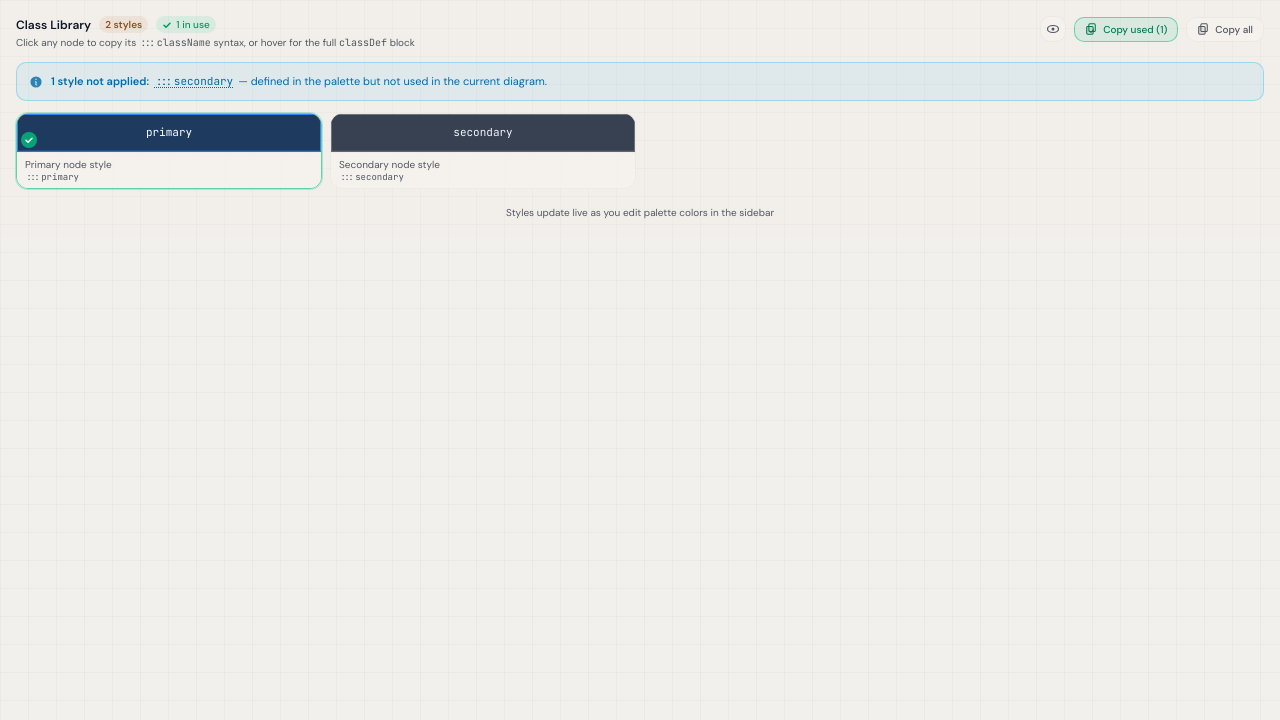
Test: ClassBrowser — indicator button checkmark flash after copy › checkmark SVG appears inside the indicator button immediately after click
Step 1. Click the button with aria-label "Copy :::secondary" → (194, 82), box [152,73,235,90]
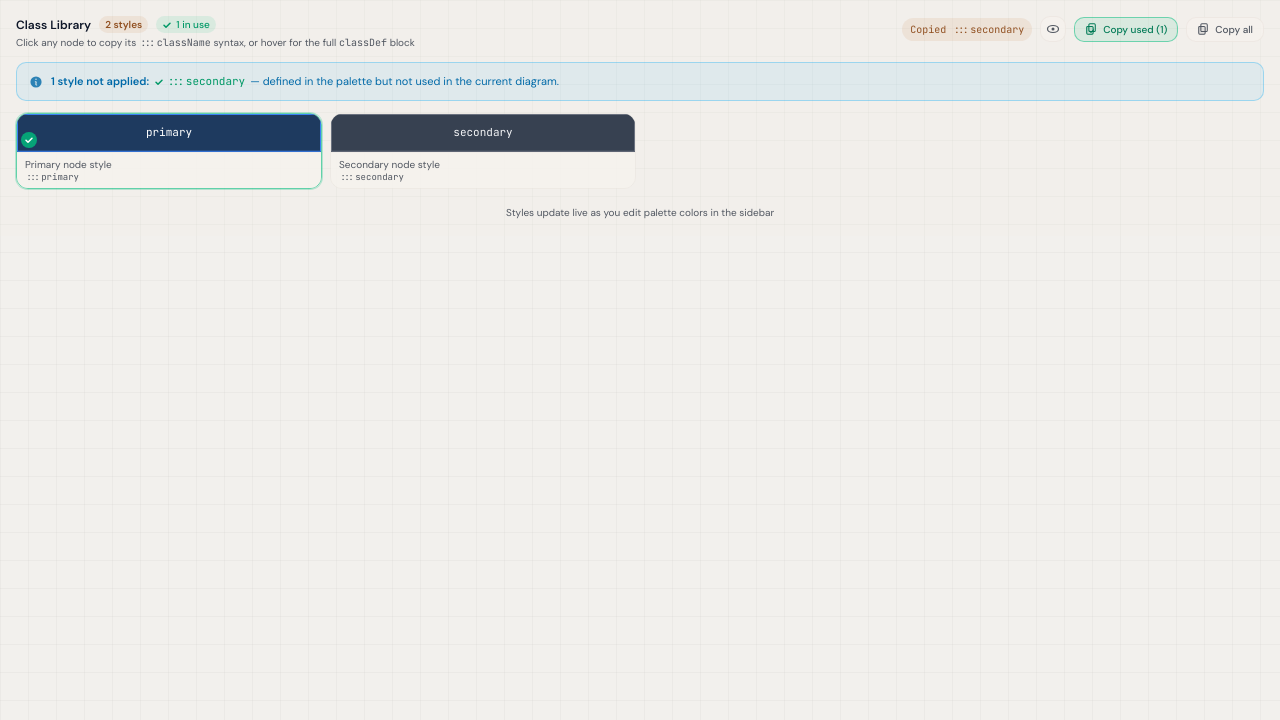
Expected: the icon next to "1 style not applied:" is shown, [154,77,164,87]
